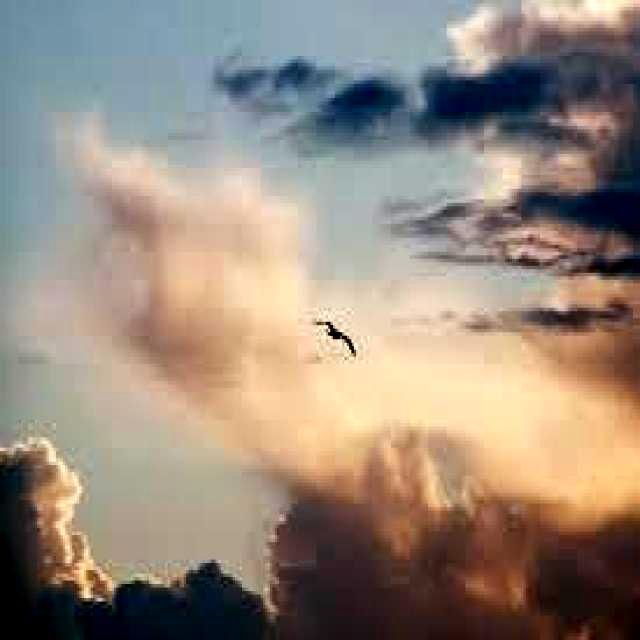bird: (306, 306, 358, 365)
